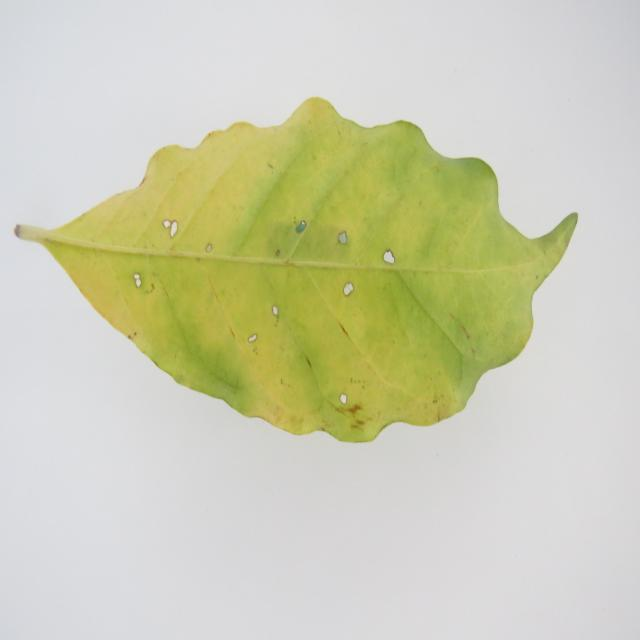DeficienciaNutricional-Calcio: (15, 98, 576, 442)
